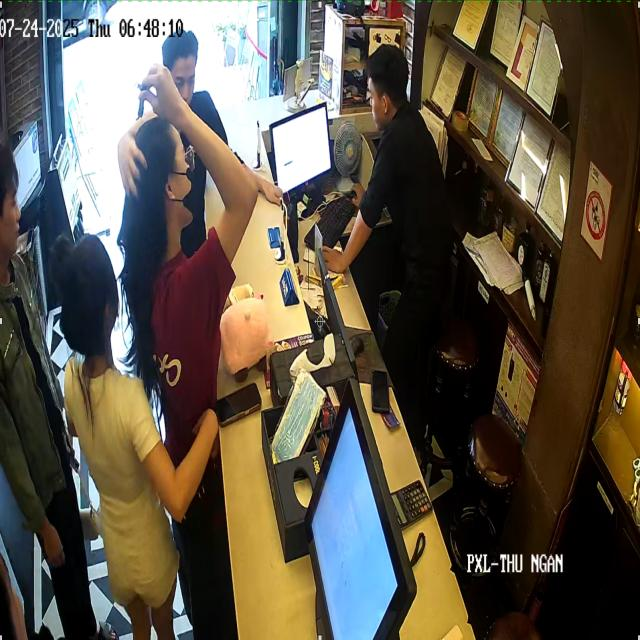khach: (58, 220, 172, 616), (117, 98, 244, 435), (2, 127, 78, 612)
nhan vien: (338, 36, 447, 382), (167, 20, 223, 116)
